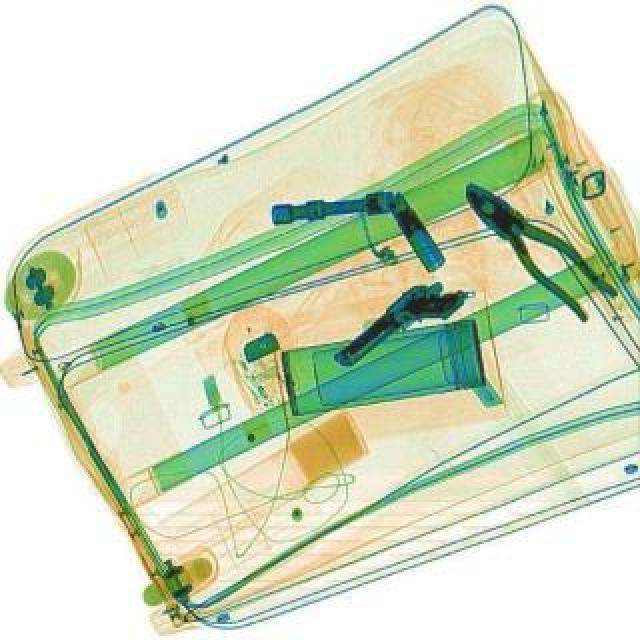gun: (330, 262, 470, 392)
wrench: (448, 170, 620, 322)
